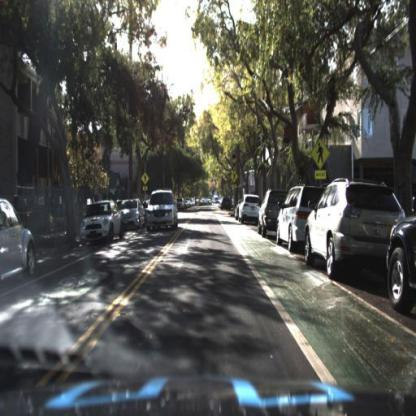car: (304, 175, 405, 277), (384, 191, 416, 315), (0, 196, 38, 293), (273, 183, 320, 248), (76, 198, 122, 244), (255, 187, 289, 240), (145, 187, 182, 232), (146, 182, 176, 233), (118, 194, 146, 235), (238, 190, 260, 224), (232, 193, 241, 225), (219, 192, 232, 212)
